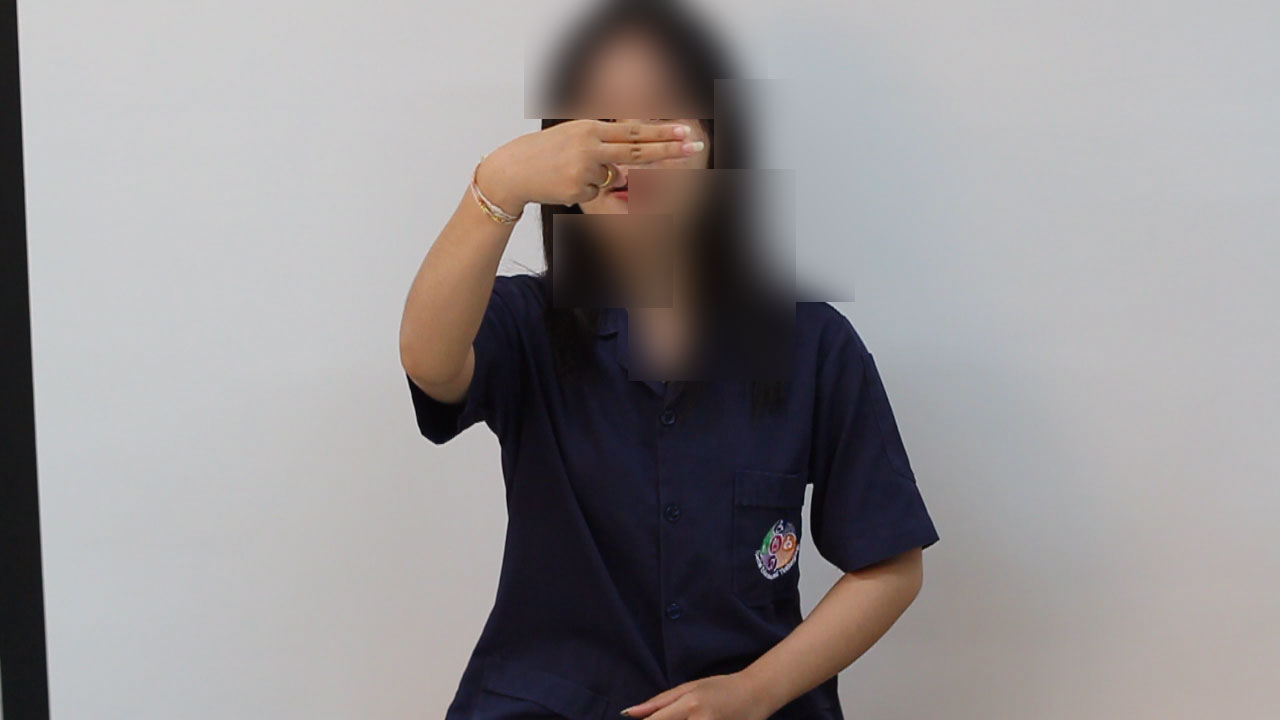hor: (458, 107, 717, 231)
